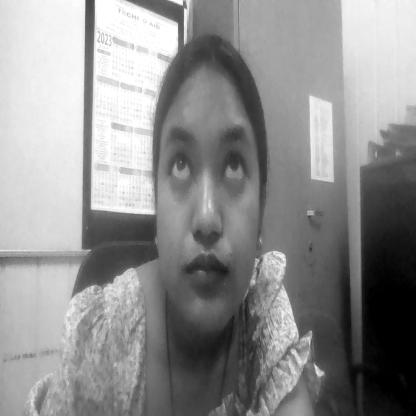Normal: (161, 60, 251, 308)
